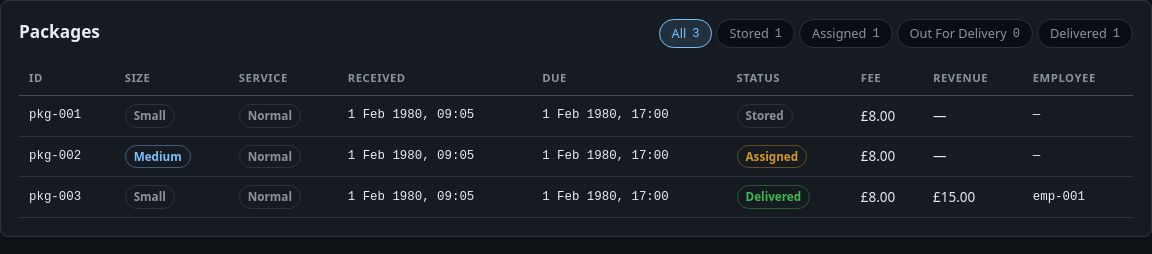
Test: PackagesPanel › filters by status
Click the button "Stored 1".
click(756, 34)  # box x1=716 y1=19 x2=795 y2=48
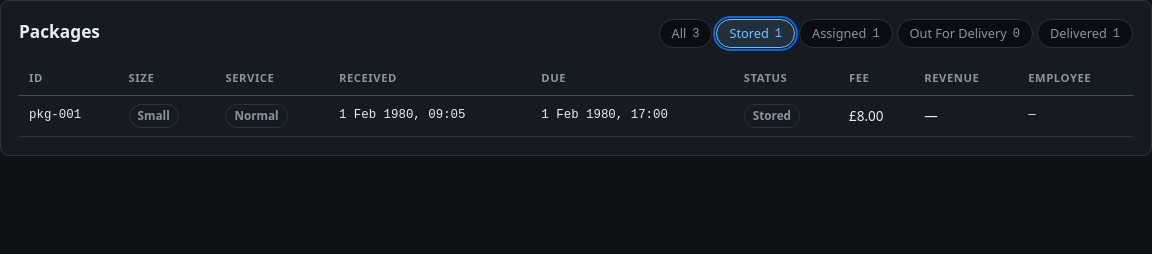
Check: the text "pkg-001" is shown, box x1=19 y1=96 x2=119 y2=136
Check: the text "pkg-002" is gone
Check: the text "pkg-003" is gone
